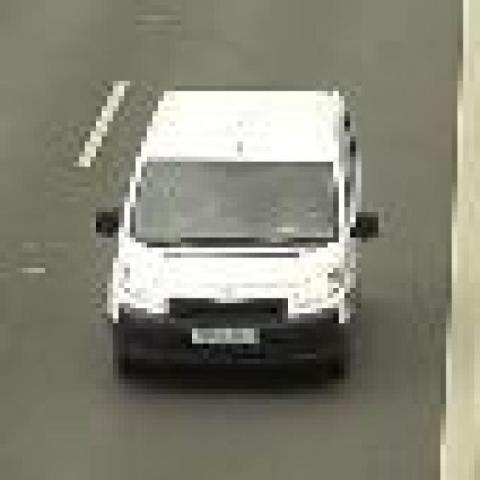van: (110, 94, 353, 382)
